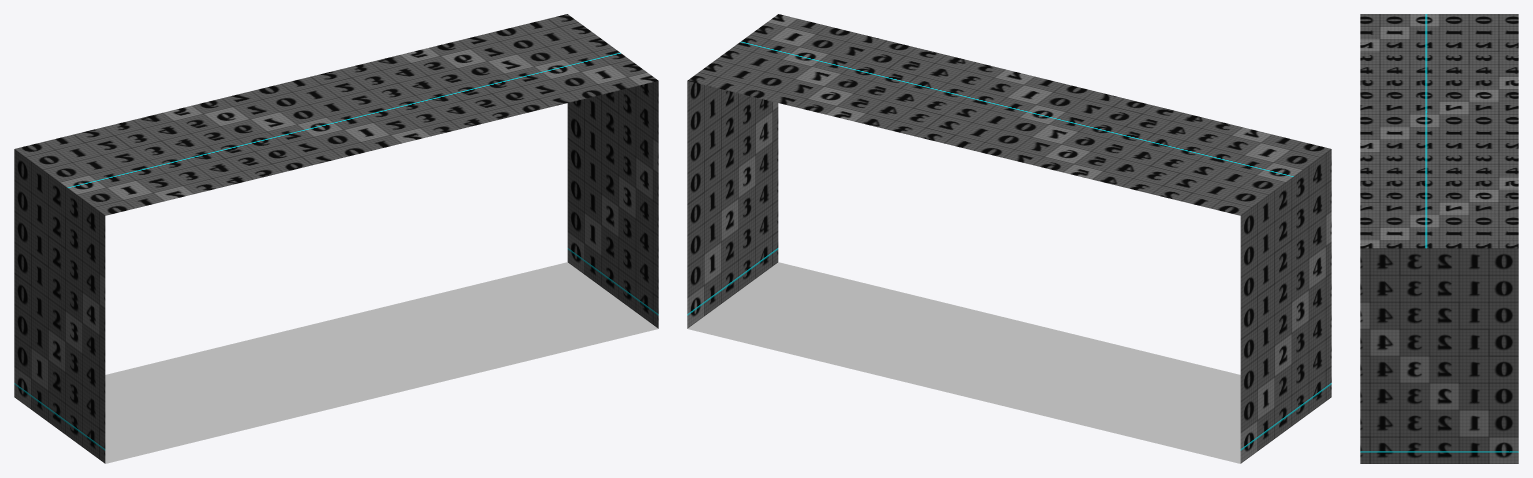
File: WallFrame700x300x200cm.FBX
The picture shows the model from 3 angles, left to right: view 1: azimuth 30°, elevation 25°; view 2: azimuth 150°, elevation 25°; view 3: azimuth 270°, elevation 25°; orthographic projection. The views are drawn at different scales.
Visible parts, largest first — view 1: WallFrame700x300x200cm; view 2: WallFrame700x300x200cm; view 3: WallFrame700x300x200cm.
Boxes of the visible parts, x1,y1,x2,y2 form: WallFrame700x300x200cm: (14,14,658,463); WallFrame700x300x200cm: (687,14,1331,463); WallFrame700x300x200cm: (1360,14,1518,463).
Size of the model in its own units: 700 by 300 by 200.
